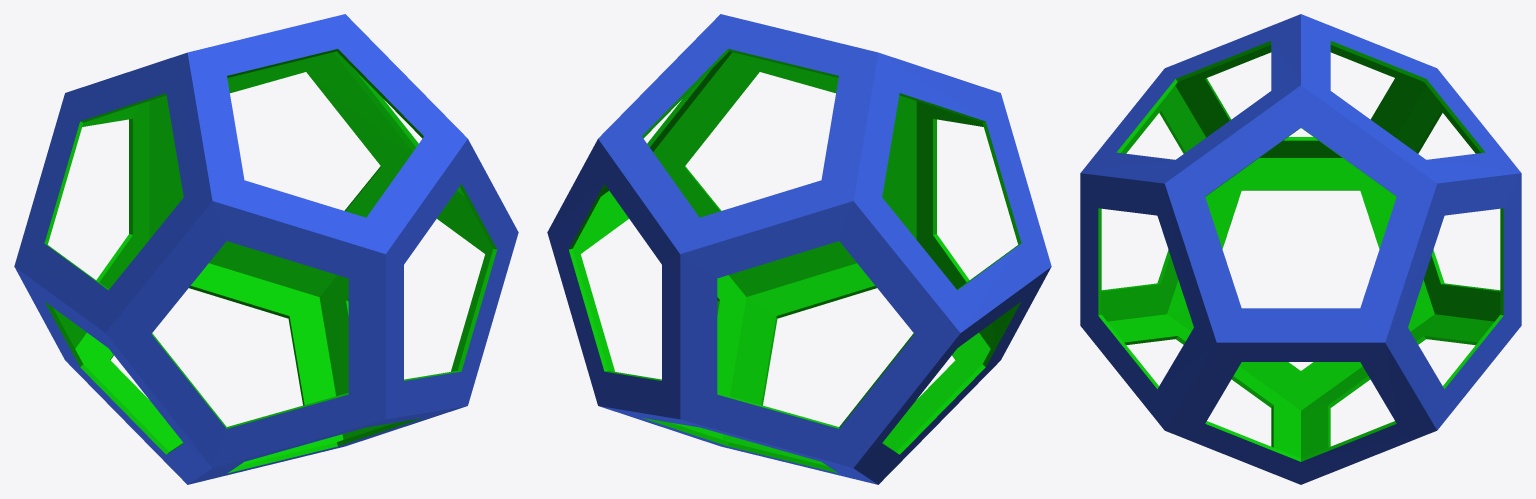
Rendered from _DodecahedronS1.glb.
3 renders of one model, left to right at view 1: azimuth 30°, elevation 25°; view 2: azimuth 150°, elevation 25°; view 3: azimuth 270°, elevation 25°, orthographic. The views are drawn at different scales.
Visible parts, largest first — view 1: root; view 2: root; view 3: root.
Boxes of the visible parts, left/top/right/bottom form: root: left=14, top=14, right=518, bottom=484; root: left=547, top=14, right=1051, bottom=484; root: left=1080, top=14, right=1521, bottom=484.
Bounding box in the file's own units: 2.64 × 2.64 × 2.64.
